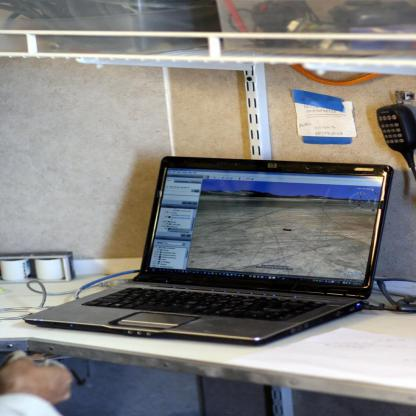board: (20, 163, 398, 349)
